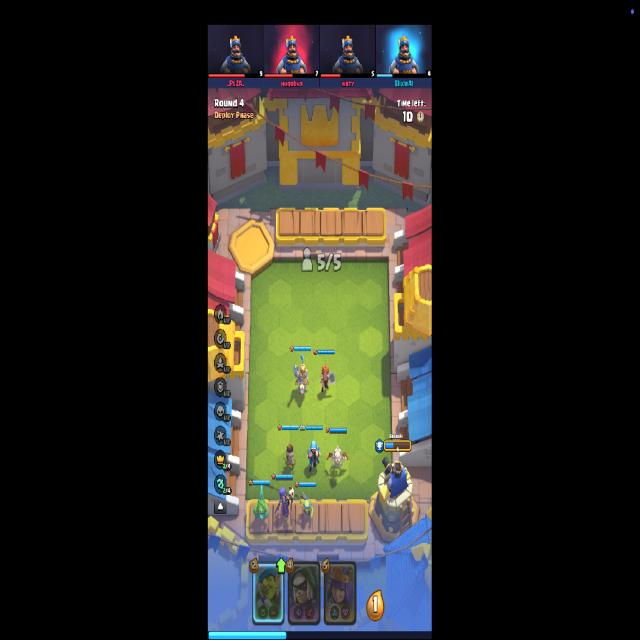baby_dragon: (252, 486, 271, 522)
card_archer_queen: (322, 560, 358, 627)
card_bandit: (288, 559, 320, 625)
card_spear_goblin: (252, 561, 284, 624)
prince: (293, 353, 309, 398)
princess: (284, 441, 296, 472)
skeleton_dragon: (328, 446, 348, 472)
spear_goblin: (298, 492, 314, 522)
valkyrie: (320, 366, 335, 394)
witch: (278, 486, 294, 521)
wizard: (307, 440, 320, 470)
